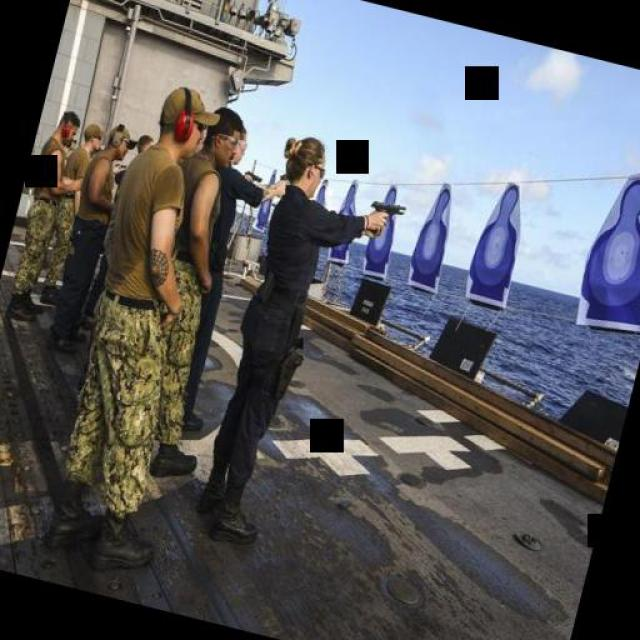gun: (363, 194, 408, 238), (243, 166, 265, 186)
